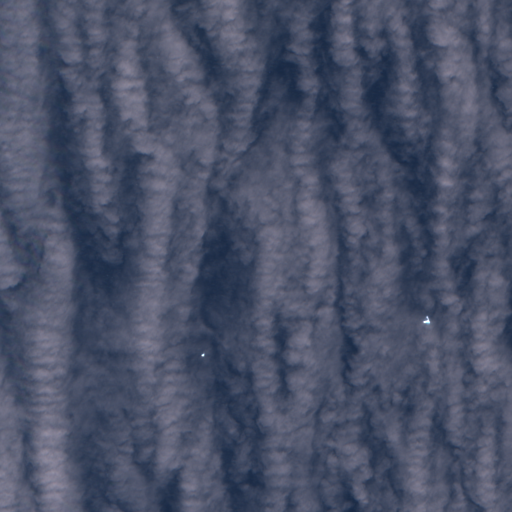Iceberg: (423, 316, 429, 324), (201, 353, 204, 356)
